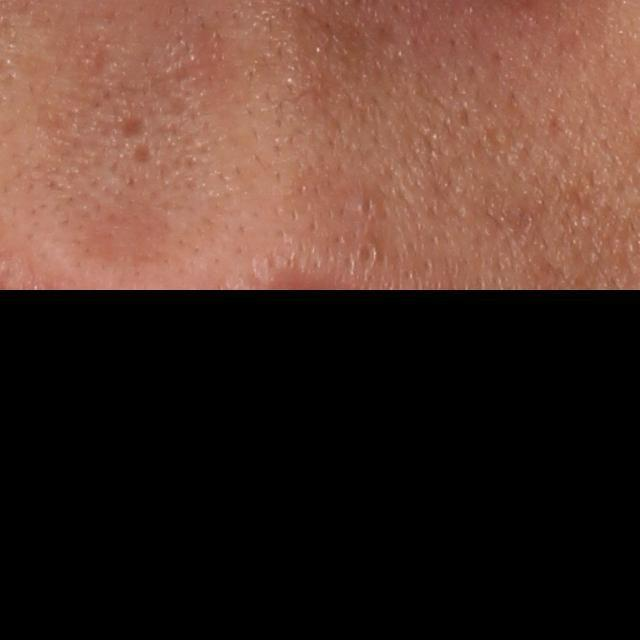atrophic_scar: (126, 141, 158, 173), (120, 116, 153, 145)
comedo: (350, 237, 380, 267)
